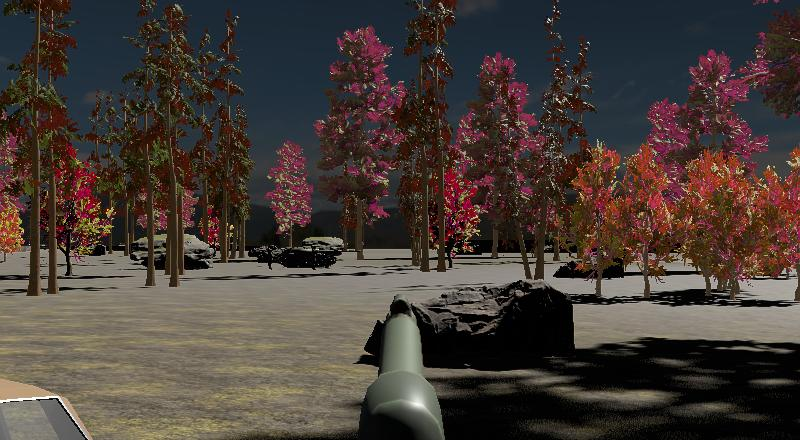Tank: (280, 243, 342, 270)
